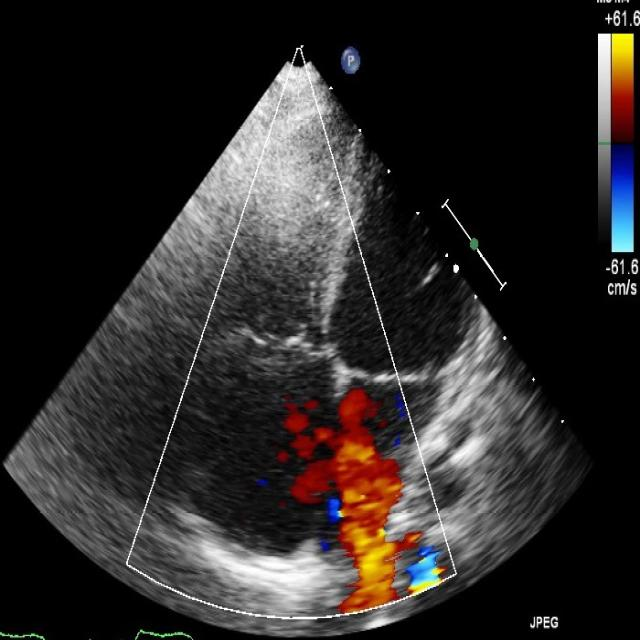ASDType2: (298, 462, 406, 490), (325, 498, 407, 522), (303, 429, 377, 450)
